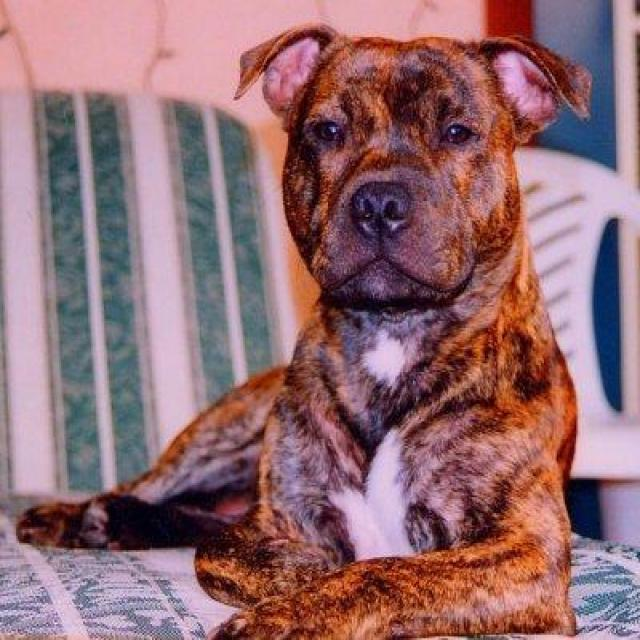staffordshire_bullterrier: (9, 14, 602, 638)
